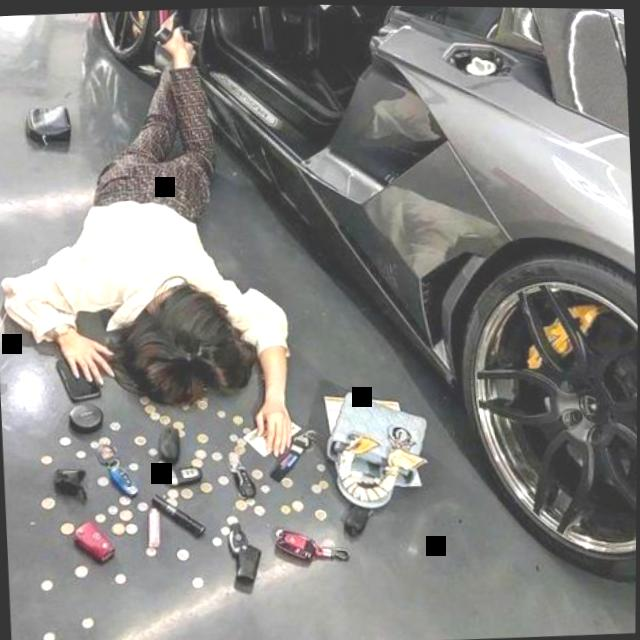Fall-Detected: (0, 6, 322, 461)
